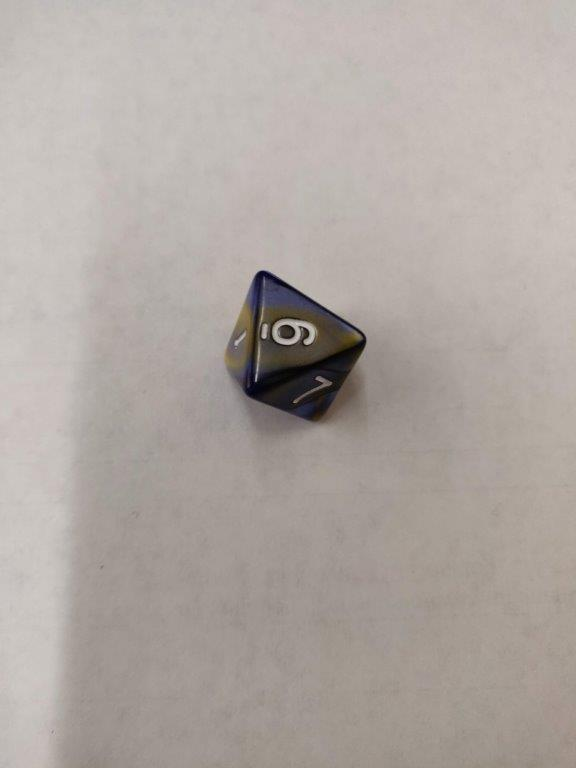d8-6: (223, 270, 367, 425)
